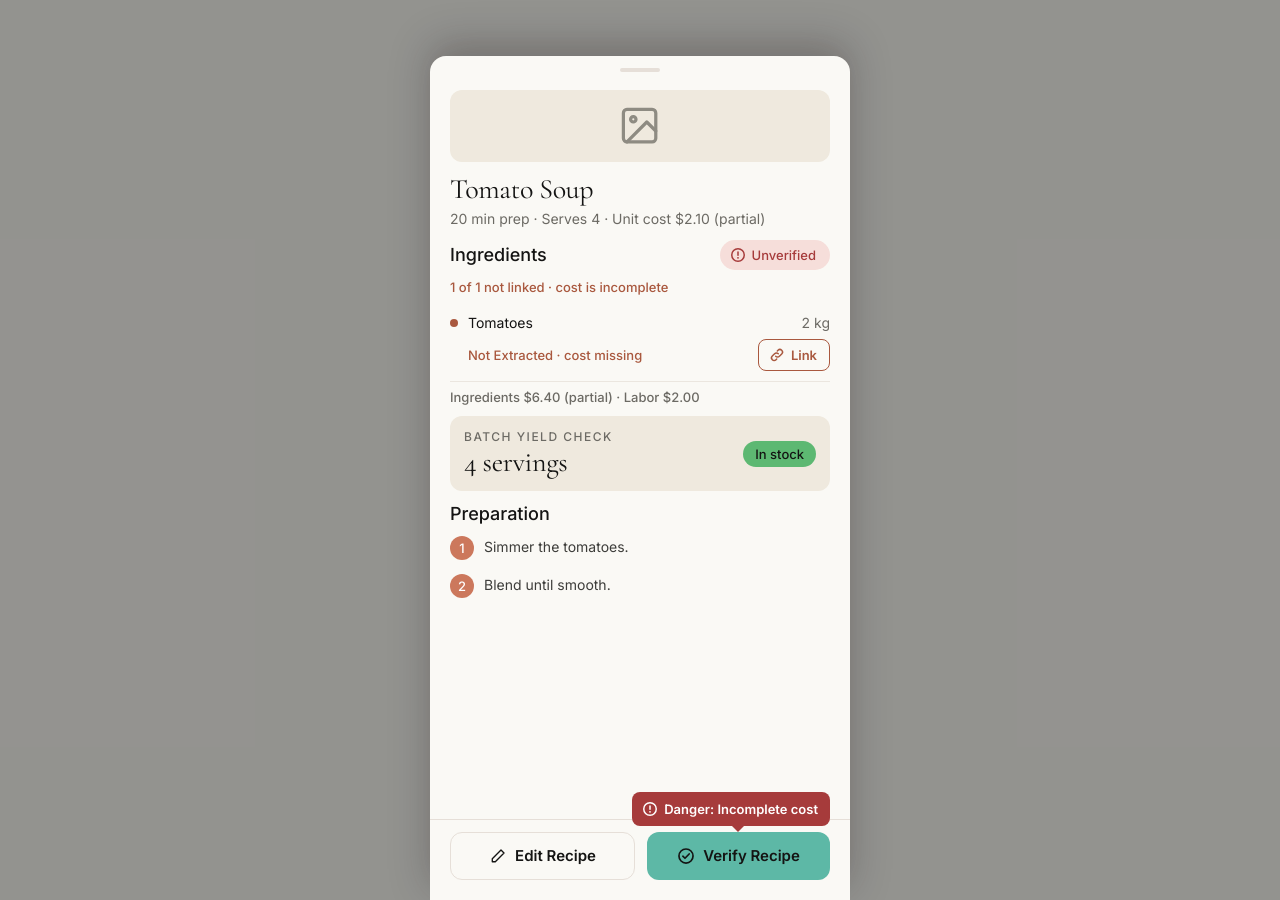
RecipeDetailPage verification › keeps the button in place and explains a failed verify
Step 1. Click the button "Verify Recipe" → (738, 856), box [647,832,830,880]
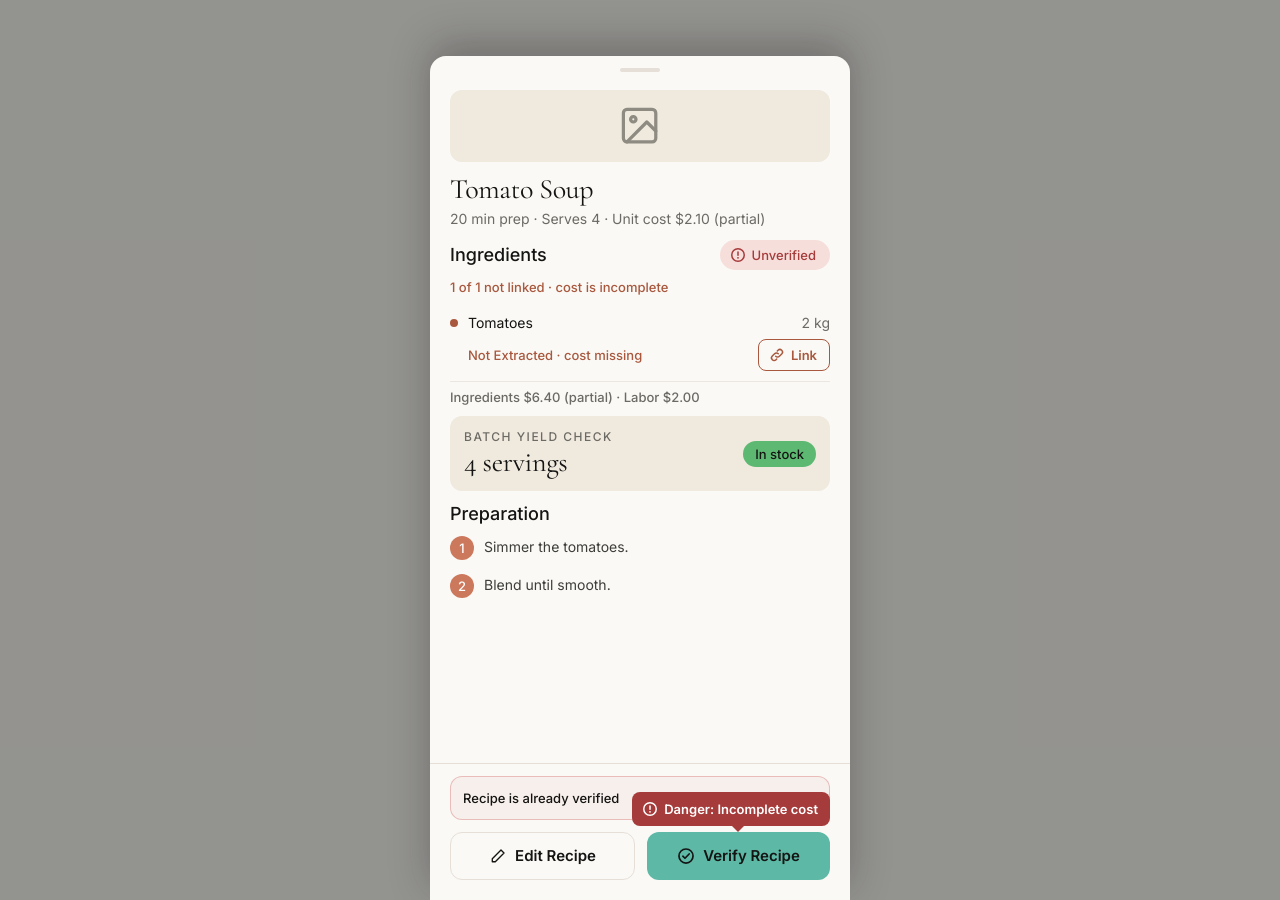
Check: the text "Recipe is already verified" is shown, box [450,776,830,820]
